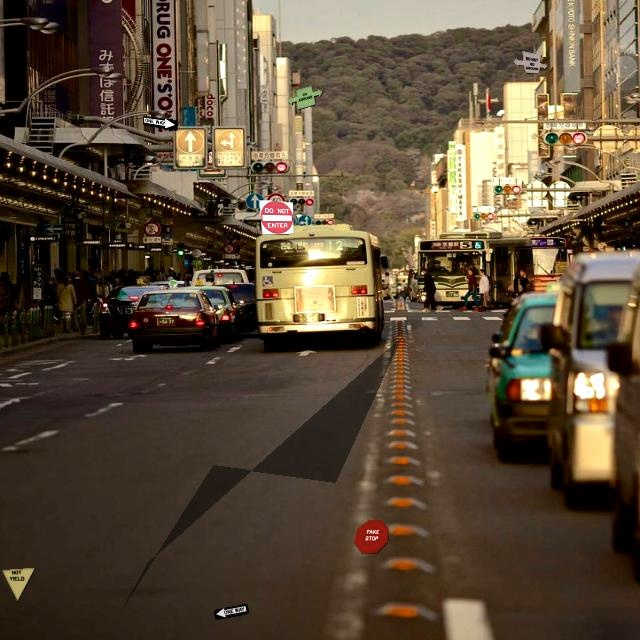DO_NOT_ENTER: (258, 199, 294, 235)
DO_NOT_GO_AROUND: (512, 50, 548, 74)
FAKE_STOP: (353, 519, 389, 554)
GO_AROUND: (287, 85, 323, 110)
NOT_YIELD: (1, 567, 36, 602)
ONE_WAY_ left: (213, 603, 249, 620)
ONE_WAY_ right: (142, 115, 178, 131)
